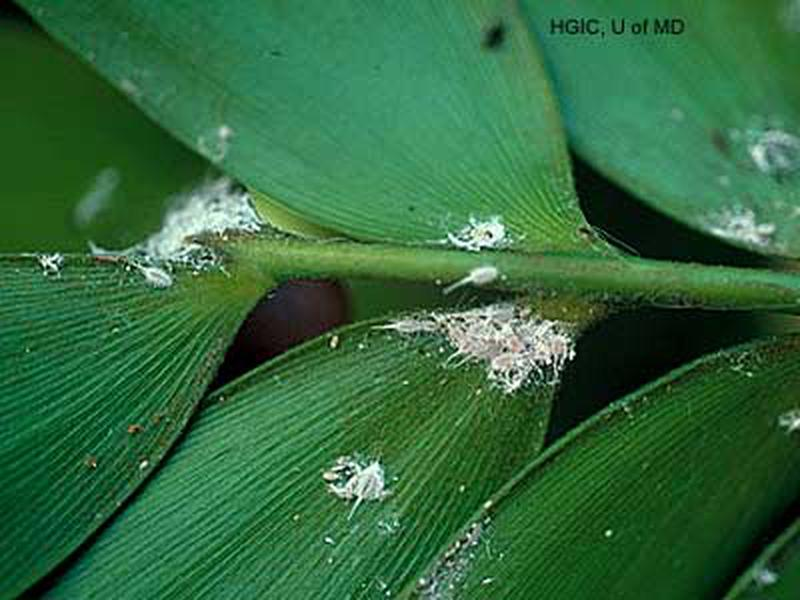Mealy_bug: (99, 172, 275, 284), (409, 294, 581, 400), (306, 433, 408, 508)
